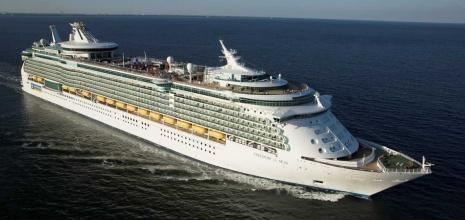youlun: (22, 13, 433, 194)
